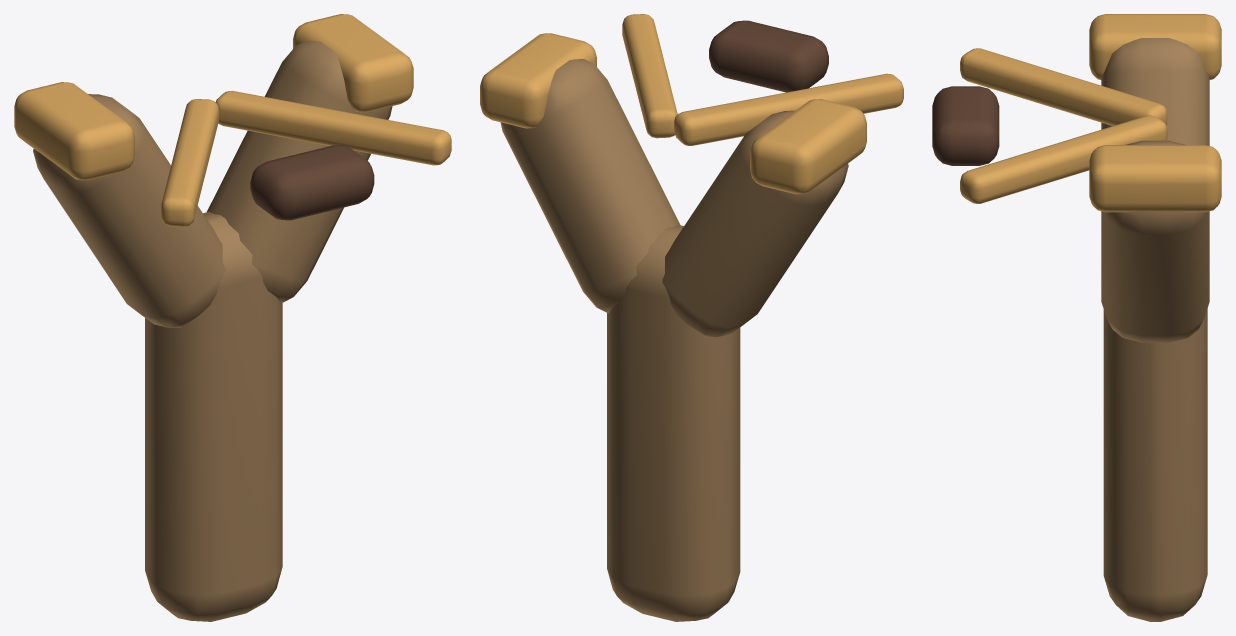
The model's file is field-slingshot.glb.
3 renders of one model, left to right at view 1: azimuth 30°, elevation 25°; view 2: azimuth 150°, elevation 25°; view 3: azimuth 270°, elevation 25°, orthographic. The views are drawn at different scales.
Parts seen in each view (by area): view 1: Slingshot ash, Amber elastic bands, Leather pouch; view 2: Slingshot ash, Amber elastic bands, Leather pouch; view 3: Slingshot ash, Amber elastic bands, Leather pouch.
Boxes of the visible parts, bbox=[...] form: Slingshot ash: bbox=[33, 40, 392, 621]; Amber elastic bands: bbox=[14, 14, 451, 227]; Leather pouch: bbox=[250, 145, 374, 220]; Slingshot ash: bbox=[500, 59, 848, 621]; Amber elastic bands: bbox=[480, 14, 903, 194]; Leather pouch: bbox=[709, 20, 828, 92]; Slingshot ash: bbox=[1101, 38, 1209, 621]; Amber elastic bands: bbox=[960, 14, 1221, 212]; Leather pouch: bbox=[932, 86, 999, 165].
Bounding box in the file's own units: 0.187 × 0.2815 × 0.142.
